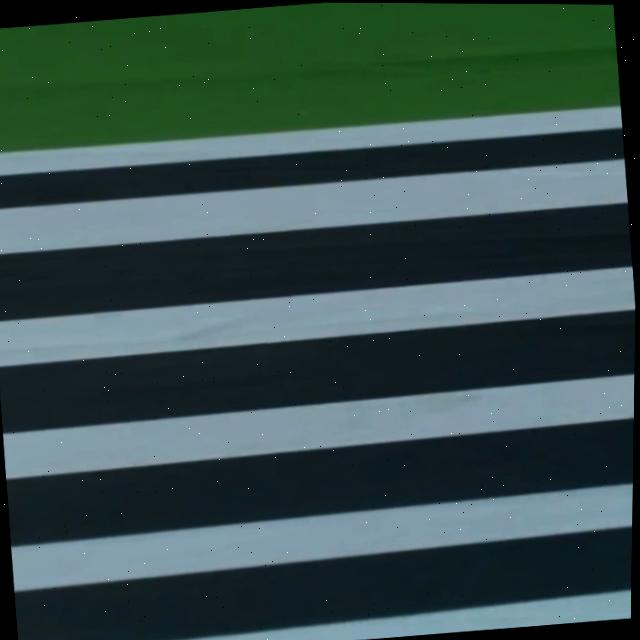right: (0, 106, 621, 175)
